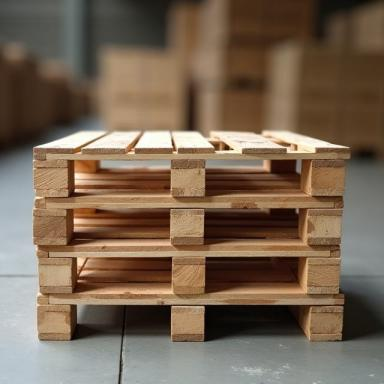pallet: (33, 129, 351, 197), (33, 196, 344, 245), (36, 245, 341, 294), (37, 293, 344, 341)
